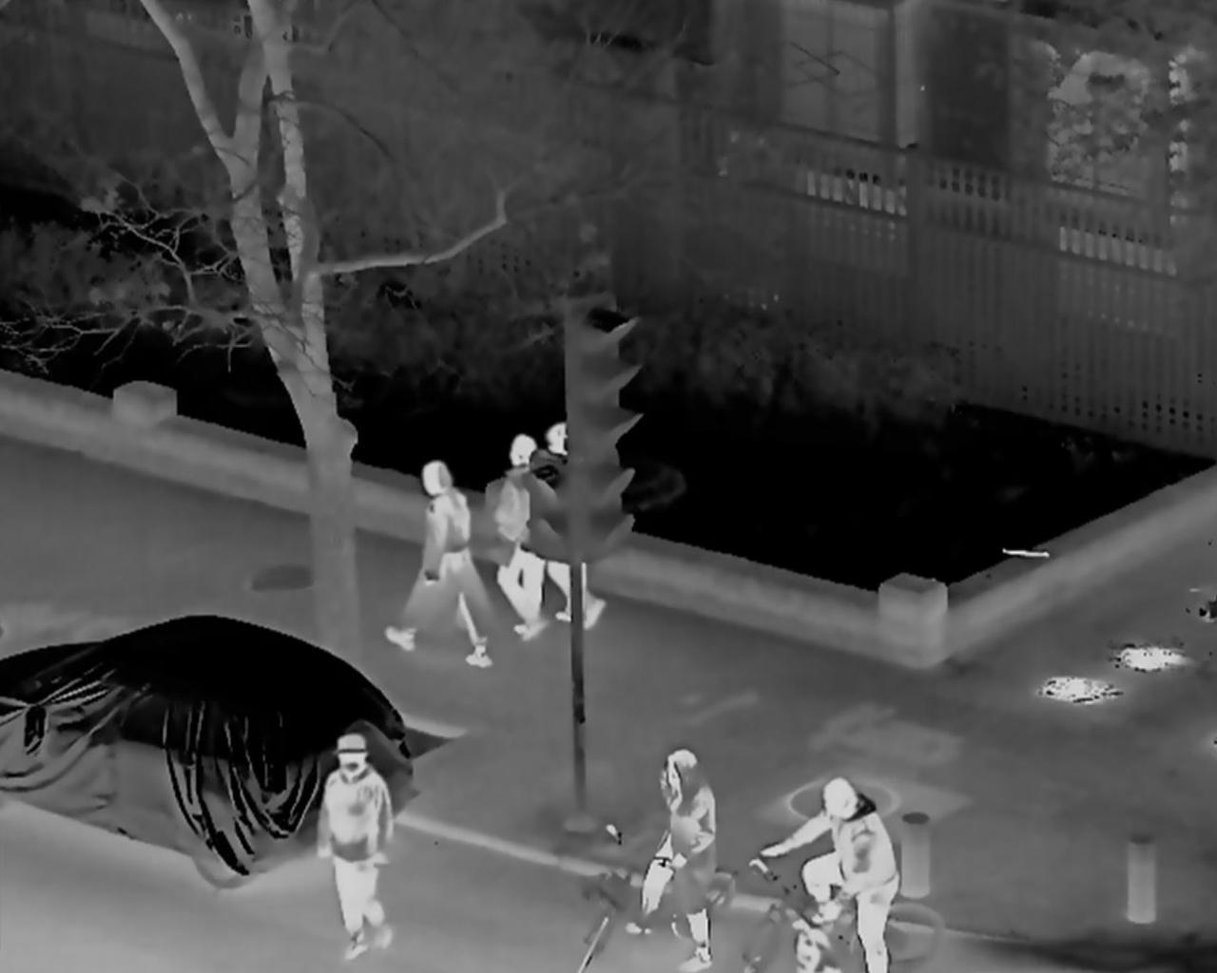person: (763, 773, 899, 973), (375, 460, 490, 674), (625, 748, 717, 973), (312, 734, 396, 963), (535, 425, 608, 631), (485, 437, 546, 639)
